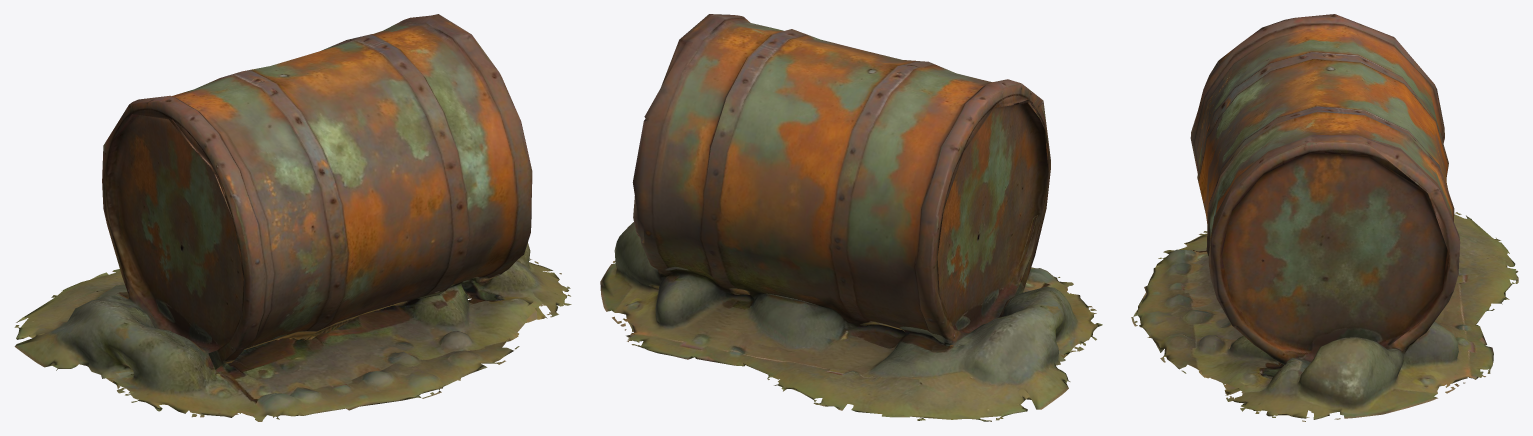
The model's file is Old Rusty v7.glb.
3 views of the same model, side by side, from view 1: azimuth 30°, elevation 25°; view 2: azimuth 150°, elevation 25°; view 3: azimuth 270°, elevation 25° (orthographic). The views are drawn at different scales.
Visible parts, largest first — view 1: Mesh0; view 2: Mesh0; view 3: Mesh0.
Part boxes in pixels (x1,y1,x2,y2): Mesh0: (14, 14, 571, 421); Mesh0: (600, 14, 1102, 421); Mesh0: (1131, 14, 1518, 421).
Size of the model in its own units: 2 by 1.04 by 1.49.
1 material, 1 textured.
